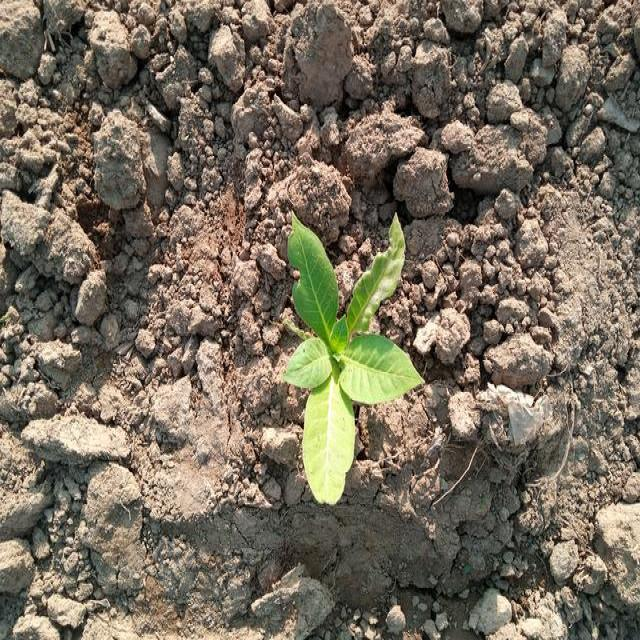crop: (287, 221, 418, 506)
